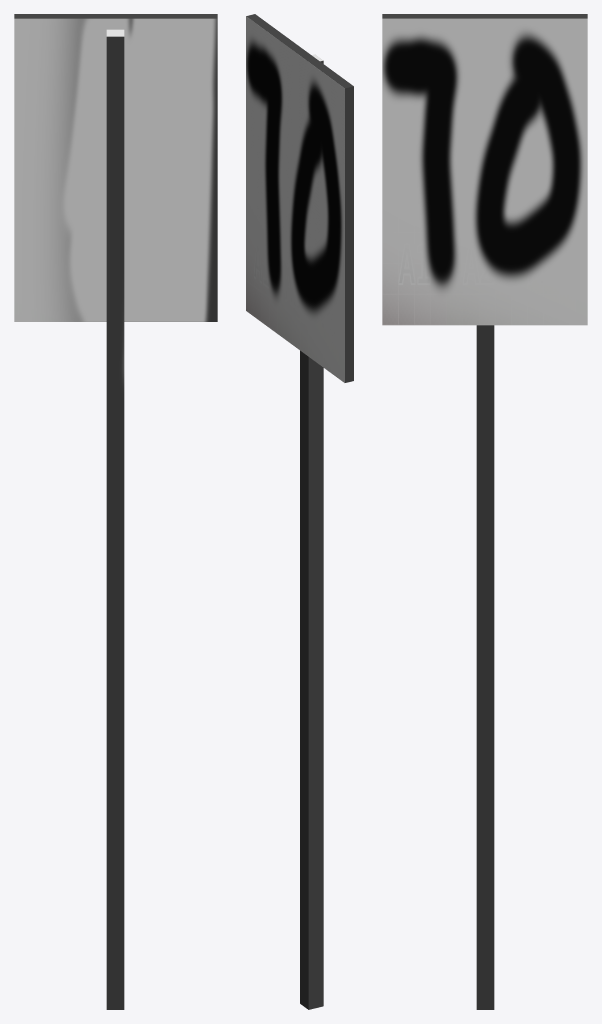
Rendered from SpeedSign.dae.
3 renders of one model, left to right at view 1: azimuth 90°, elevation 25°; view 2: azimuth 210°, elevation 25°; view 3: azimuth 270°, elevation 25°, orthographic. The views are drawn at different scales.
Visible parts, largest first — view 1: Cube; view 2: Cube; view 3: Cube.
Boxes of the visible parts, box(x1,y1,x2,y2) form: Cube: box(14, 14, 217, 1009); Cube: box(246, 14, 353, 1009); Cube: box(382, 14, 587, 1009).
Size of the model in its own units: 0.0386 by 0.2808 by 1.5.
1 material, 1 textured.
